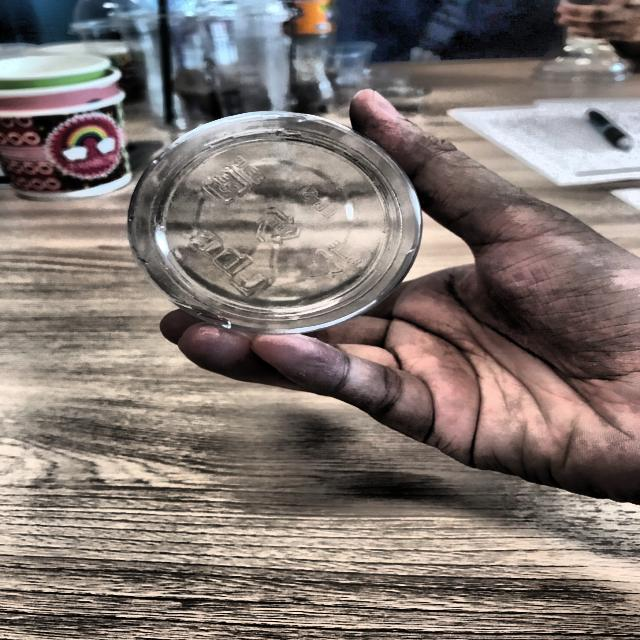plastic cup: (120, 103, 435, 340)
